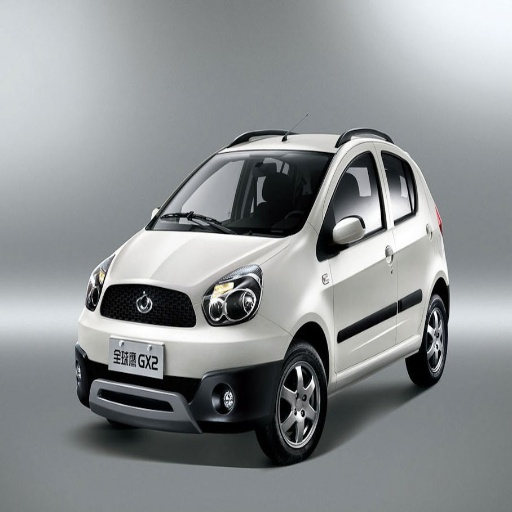front_bumper: (76, 283, 292, 428)
front_glass: (148, 150, 333, 234)
front_left_door: (321, 142, 396, 371)
